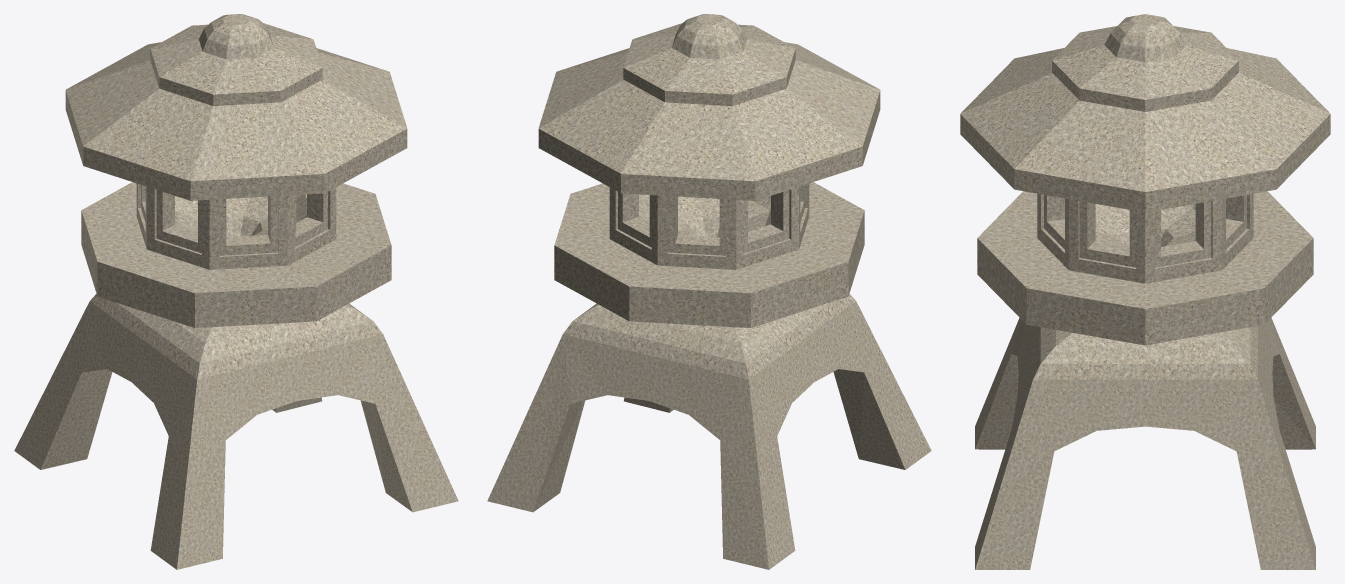
File: sweethome3d-blendswap-cc-0-stone-lantern-166.glb
3 views of the same model, side by side, from view 1: azimuth 30°, elevation 25°; view 2: azimuth 150°, elevation 25°; view 3: azimuth 270°, elevation 25° (orthographic). The views are drawn at different scales.
Parts seen in each view (by area): view 1: StoneLantern_Circle.001; view 2: StoneLantern_Circle.001; view 3: StoneLantern_Circle.001.
Boxes of the visible parts, <box> form: StoneLantern_Circle.001: <box>14,14,458,569</box>; StoneLantern_Circle.001: <box>487,14,931,569</box>; StoneLantern_Circle.001: <box>960,14,1330,569</box>.
Size of the model in its own units: 34.7 by 49.37 by 34.7.
Materials: 1 (1 with a texture image).
